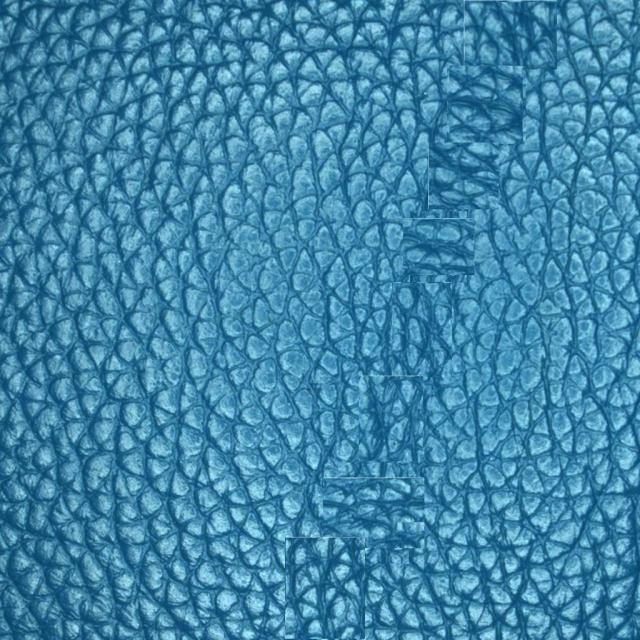Healed Injury: (302, 354, 467, 615), (404, 39, 550, 290)
